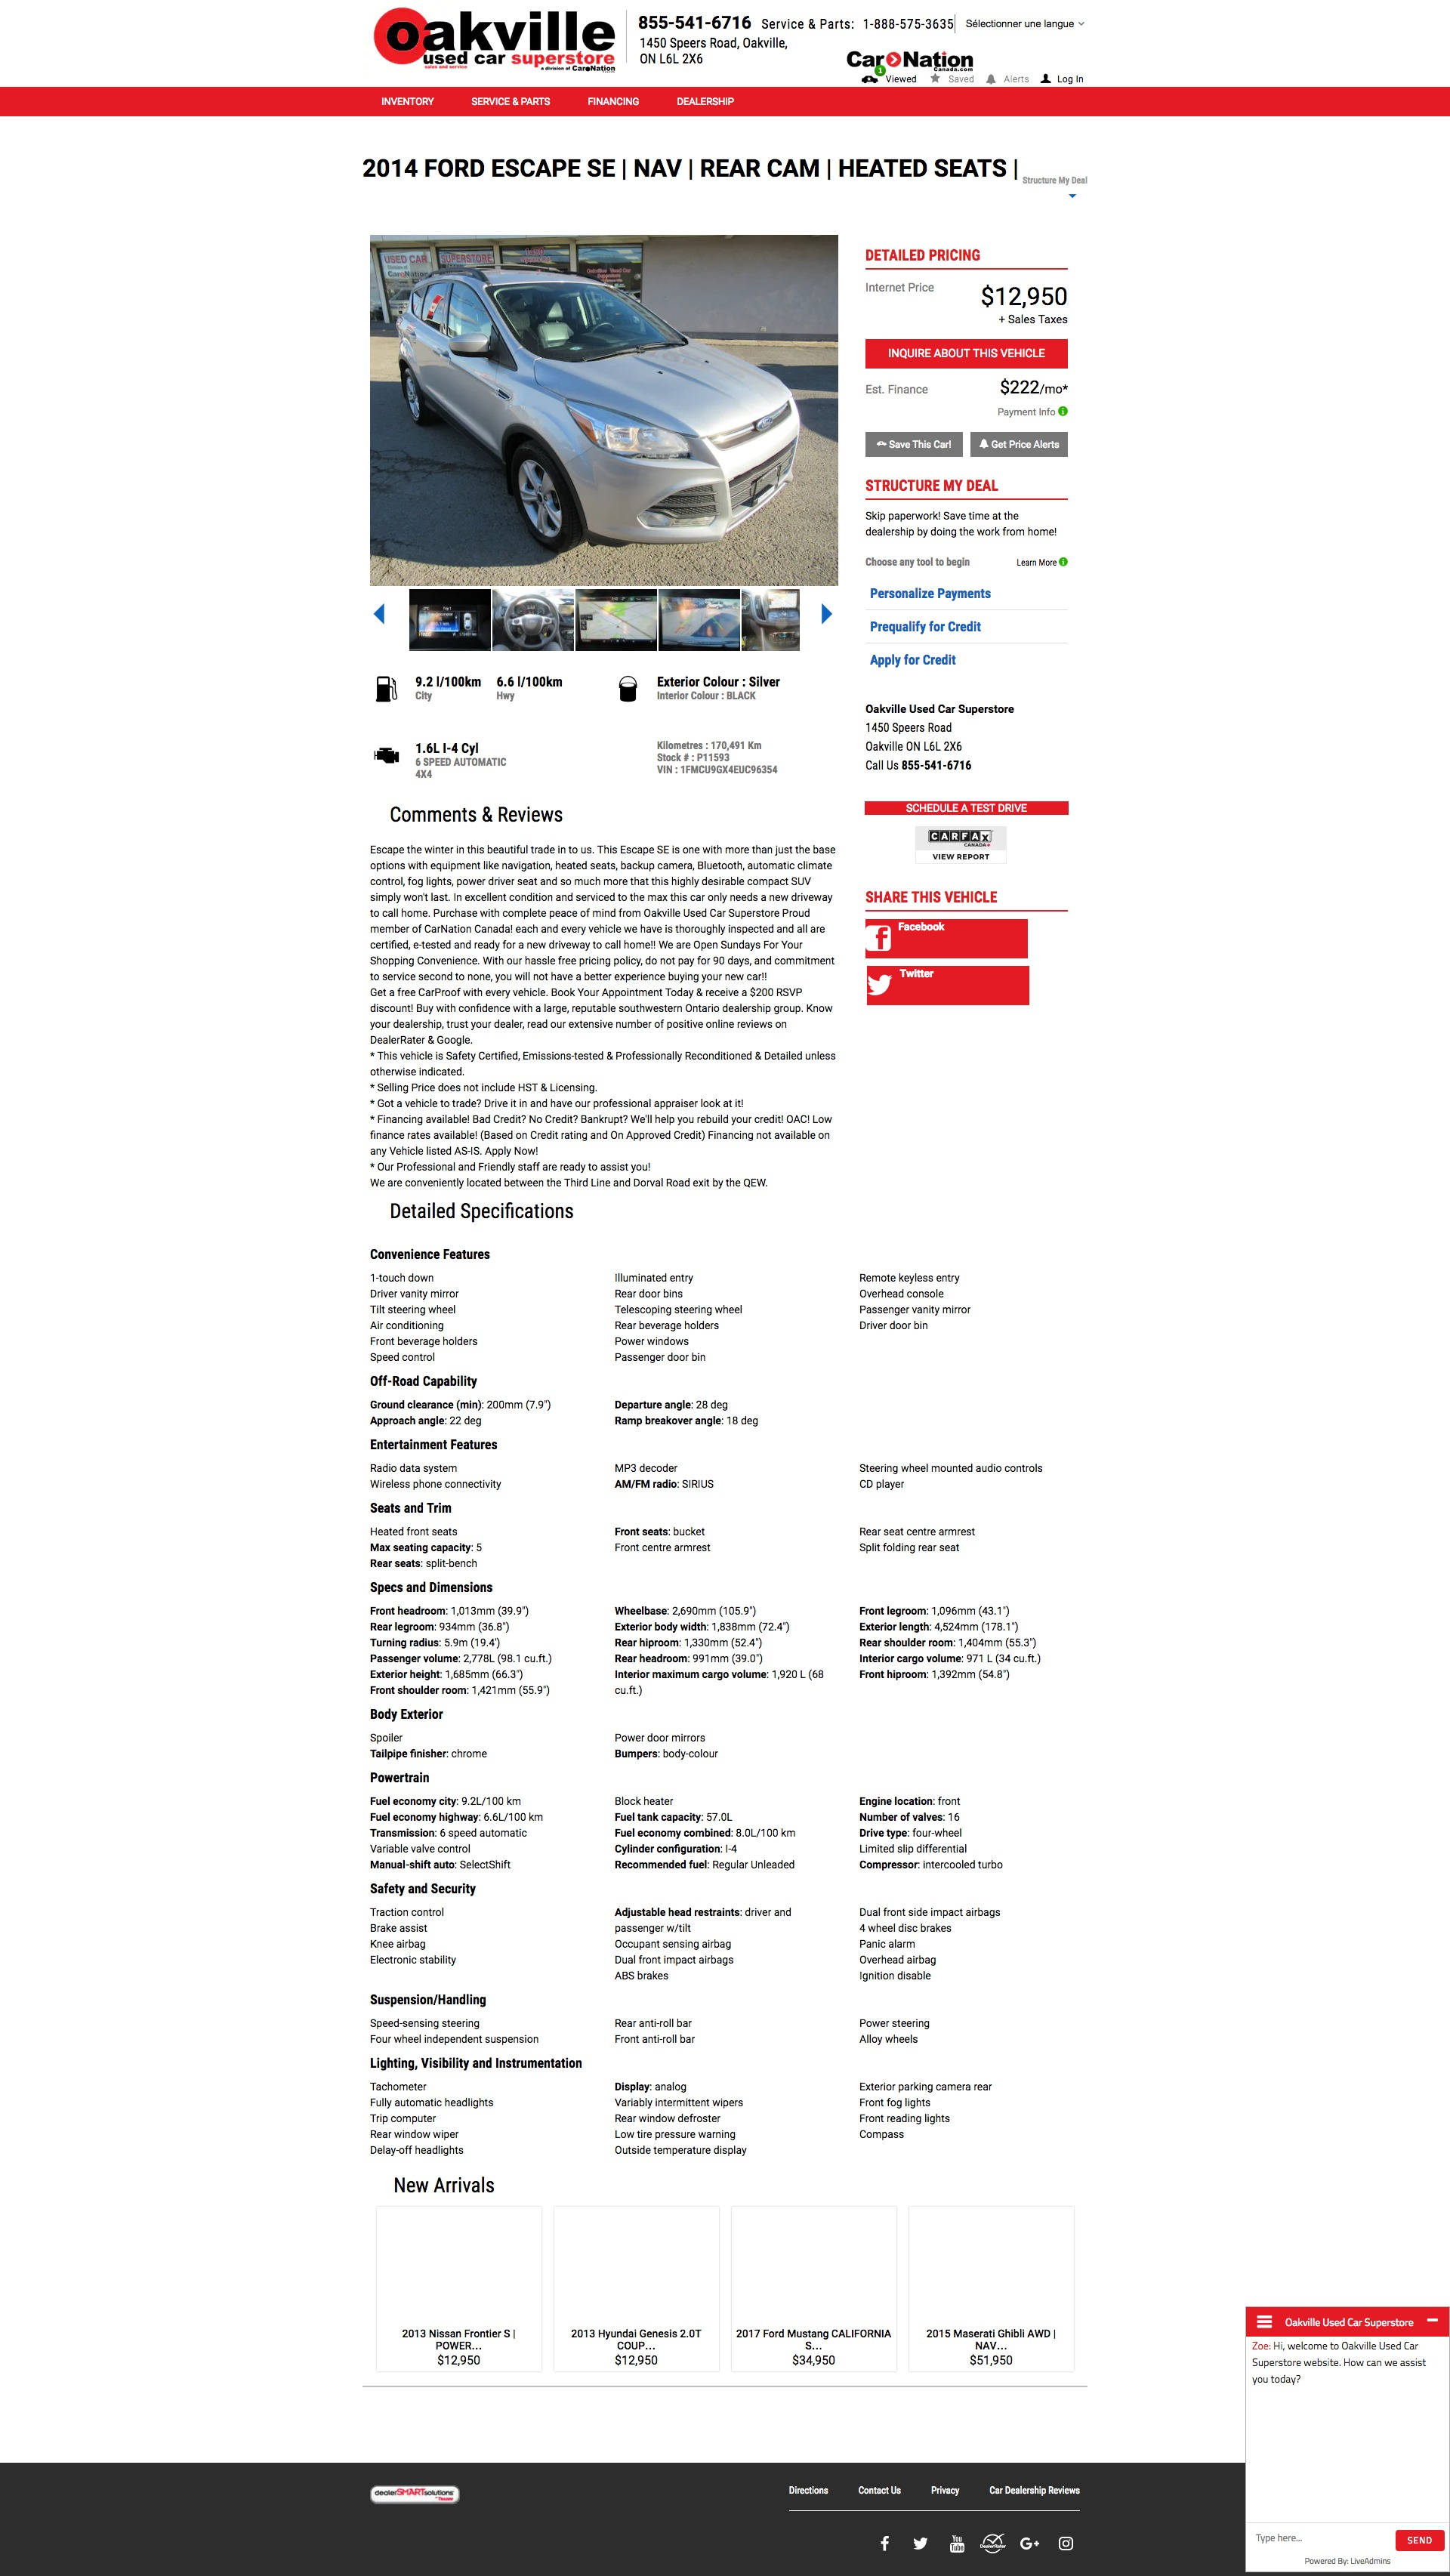car: (822, 603, 833, 625)
